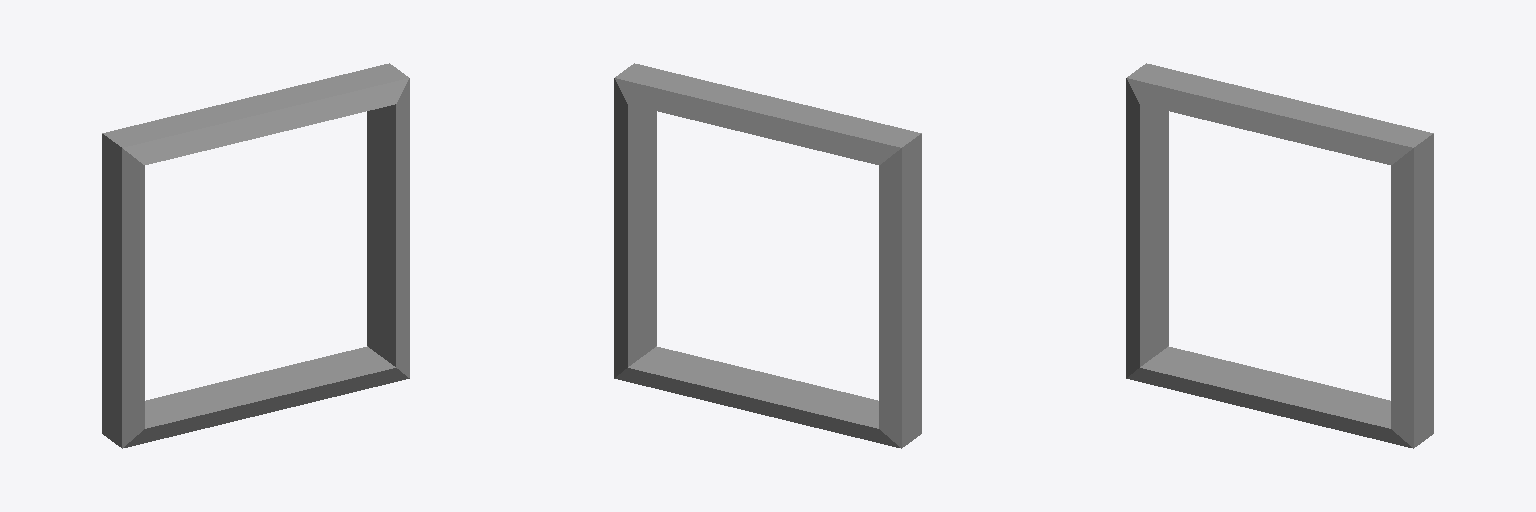
File: portal.obj
3 renders of one model, left to right at view 1: azimuth 30°, elevation 25°; view 2: azimuth 150°, elevation 25°; view 3: azimuth 330°, elevation 25°, orthographic.
Visible parts, largest first — view 1: Cube; view 2: Cube; view 3: Cube.
Boxes of the visible parts, box(x1,y1,x2,y2) form: Cube: box(102, 63, 409, 448); Cube: box(614, 63, 921, 448); Cube: box(1126, 63, 1433, 448).
Bounding box in the file's own units: 1.14 × 1.14 × 0.2.